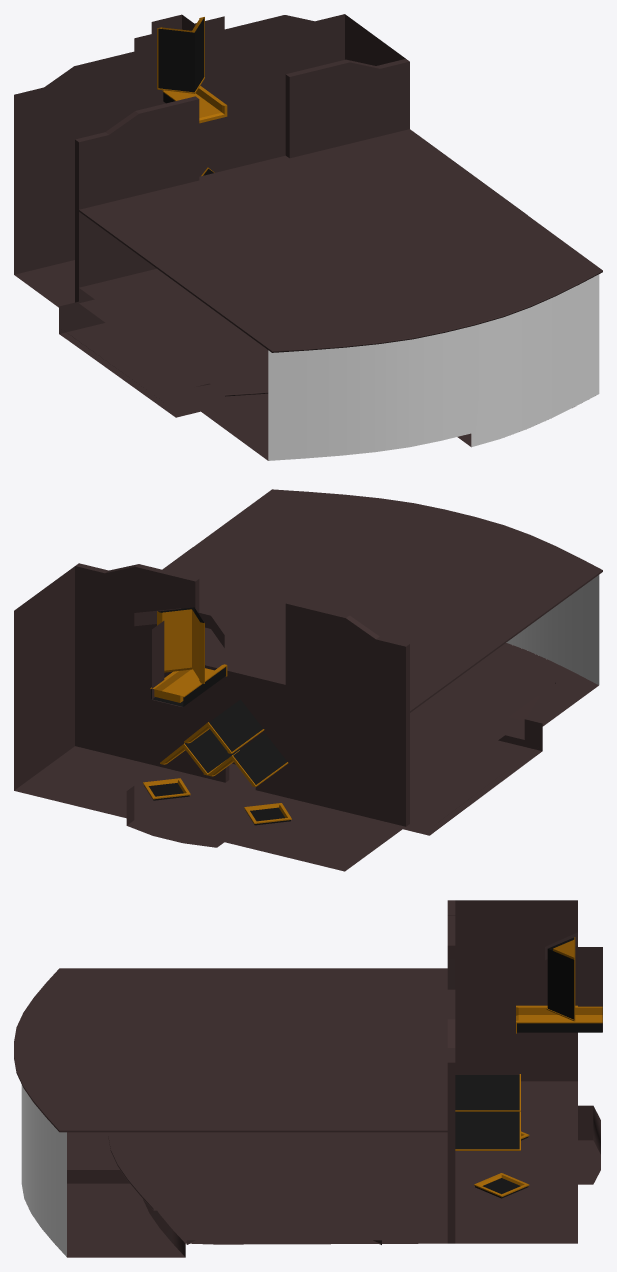
File: Geometry Blockout.fbx
3 renders of one model, top to bottom at view 1: azimuth 30°, elevation 25°; view 2: azimuth 150°, elevation 25°; view 3: azimuth 270°, elevation 25°, orthographic.
Parts seen in each view (by area): view 1: Floor2, Floor0, Window, Floor1, Fountain Chutes; view 2: Floor0, Floor2, Floor1, Fountain Chutes, Window, Fountain Pools; view 3: Floor2, Floor0, Floor1, Fountain Chutes, Window, Stage, Fountain Pools.
Part boxes in pixels (left/top/right/bottom): Floor2: left=79, top=129, right=602, bottom=352; Floor0: left=14, top=14, right=523, bottom=460; Window: left=268, top=274, right=599, bottom=460; Floor1: left=79, top=269, right=268, bottom=396; Fountain Chutes: left=157, top=17, right=227, bottom=176; Floor0: left=14, top=547, right=598, bottom=871; Floor2: left=162, top=489, right=602, bottom=712; Floor1: left=410, top=652, right=555, bottom=804; Fountain Chutes: left=150, top=607, right=288, bottom=787; Window: left=506, top=575, right=599, bottom=684; Fountain Pools: left=143, top=778, right=291, bottom=825; Floor2: left=14, top=968, right=447, bottom=1132; Floor0: left=55, top=900, right=602, bottom=1257; Floor1: left=108, top=1132, right=447, bottom=1210; Fountain Chutes: left=455, top=937, right=602, bottom=1150; Window: left=21, top=1085, right=66, bottom=1256; Stage: left=186, top=1210, right=381, bottom=1244; Fountain Pools: left=474, top=1131, right=529, bottom=1198.
Bounding box in the file's own units: 5330 × 3273 × 7671.
